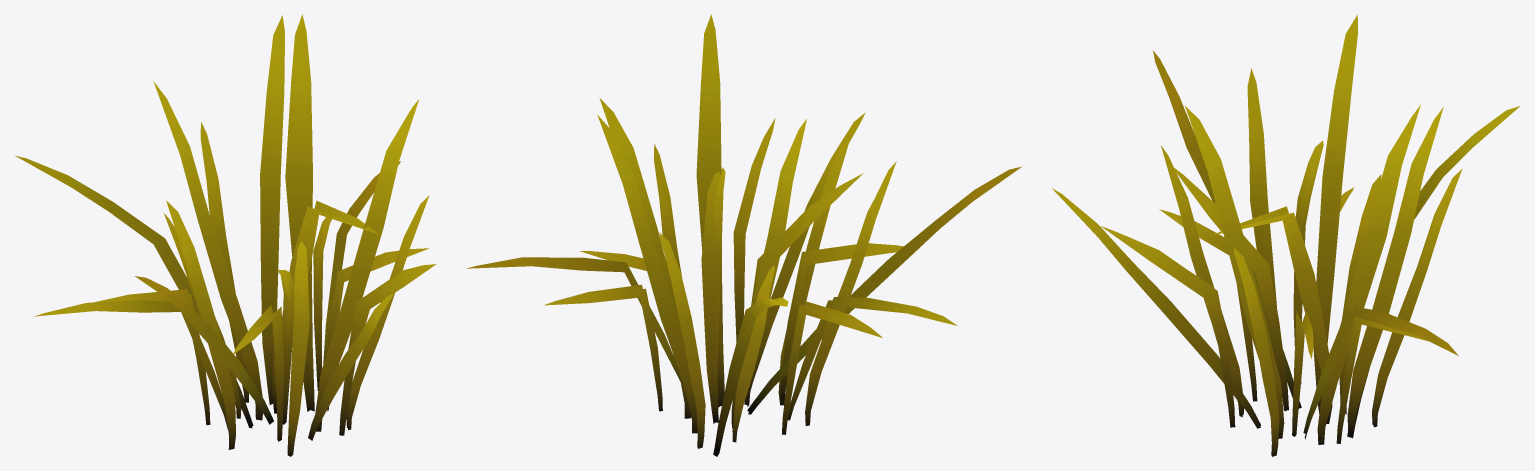
File: sn_grass_wispy_short.glb
3 views of the same model, side by side, from view 1: azimuth 30°, elevation 25°; view 2: azimuth 150°, elevation 25°; view 3: azimuth 270°, elevation 25° (orthographic). The views are drawn at different scales.
Visible parts, largest first — view 1: Grass_Wispy_Short; view 2: Grass_Wispy_Short; view 3: Grass_Wispy_Short.
Boxes of the visible parts, x1,y1,x2,y2 form: Grass_Wispy_Short: [15, 14, 436, 456]; Grass_Wispy_Short: [466, 14, 1021, 456]; Grass_Wispy_Short: [1052, 14, 1519, 456].
Size of the model in its own units: 1.32 by 1.07 by 1.21.
Materials: 1 (1 with a texture image).
